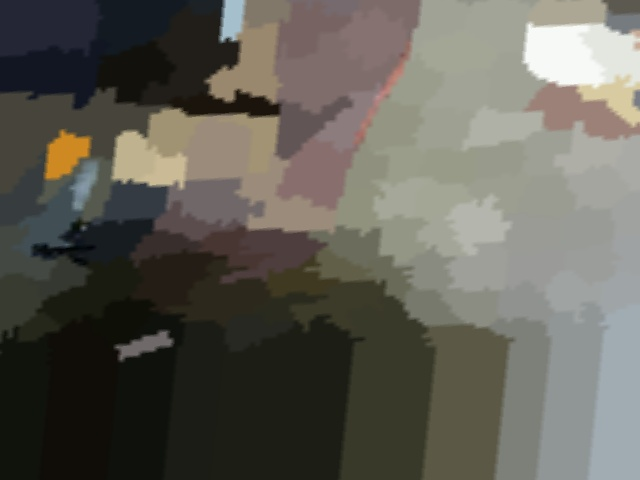one: (599, 0, 639, 33)
